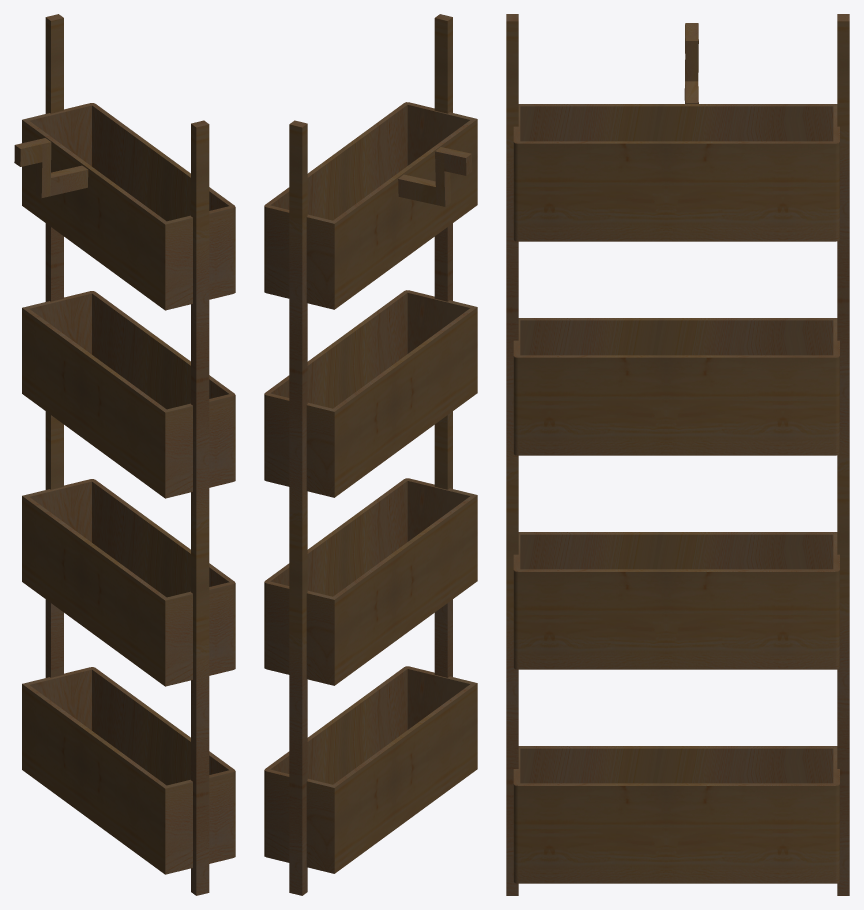
The model's file is echelle tagere.fbx.
3 views of the same model, side by side, from view 1: azimuth 30°, elevation 25°; view 2: azimuth 150°, elevation 25°; view 3: azimuth 270°, elevation 25° (orthographic). The views are drawn at different scales.
Parts seen in each view (by area): view 1: Box010; view 2: Box010; view 3: Box010.
Boxes of the visible parts, <box> form: Box010: <box>14,14,235,895</box>; Box010: <box>264,14,477,895</box>; Box010: <box>506,14,849,895</box>.
Bounding box in the file's own units: 15.15 × 78.67 × 27.98.
1 material, 1 textured.
